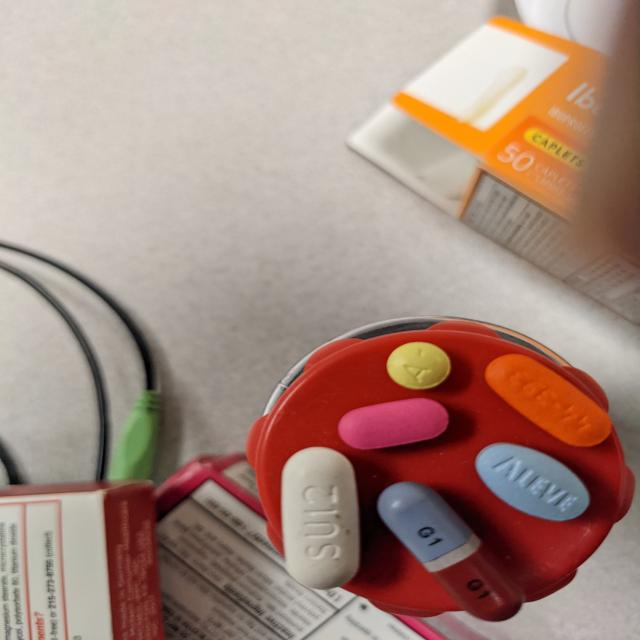non-organic waste: (376, 480, 523, 623), (482, 352, 613, 449), (279, 445, 361, 590), (472, 442, 591, 522), (336, 397, 451, 450), (385, 340, 453, 391)
